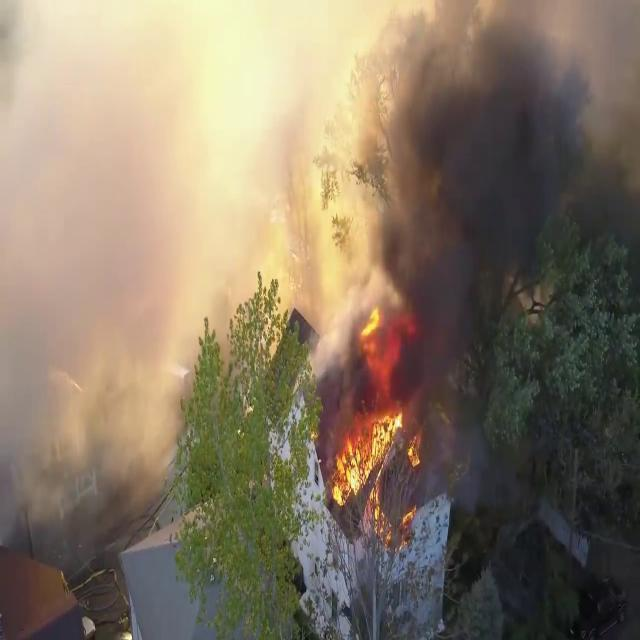Fire: (332, 324, 422, 524), (332, 398, 422, 524)
Smoke: (332, 0, 640, 420), (0, 0, 238, 534)
